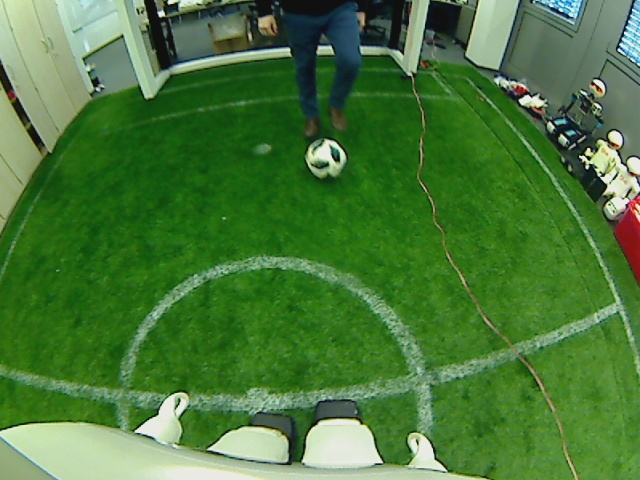ball: (303, 136, 349, 180)
